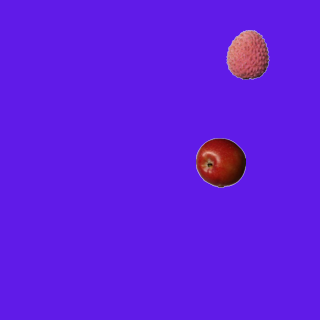Apple Braeburn: (195, 137, 245, 187)
Lychee: (222, 29, 272, 79)
